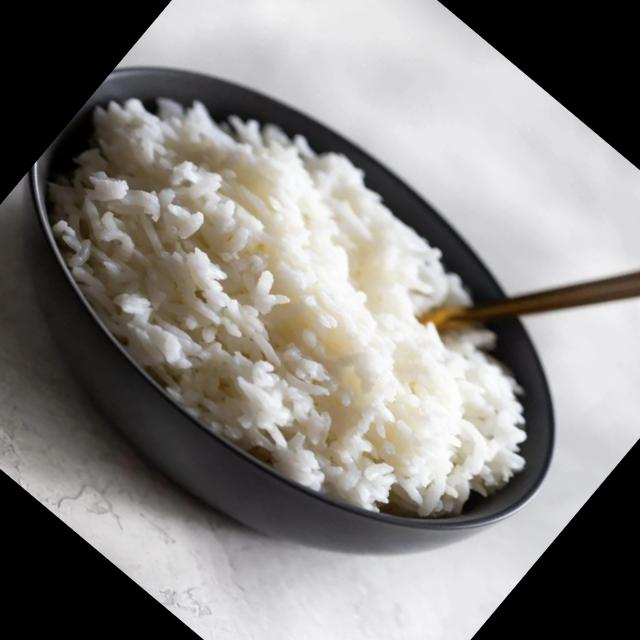rice: (60, 108, 528, 512)
